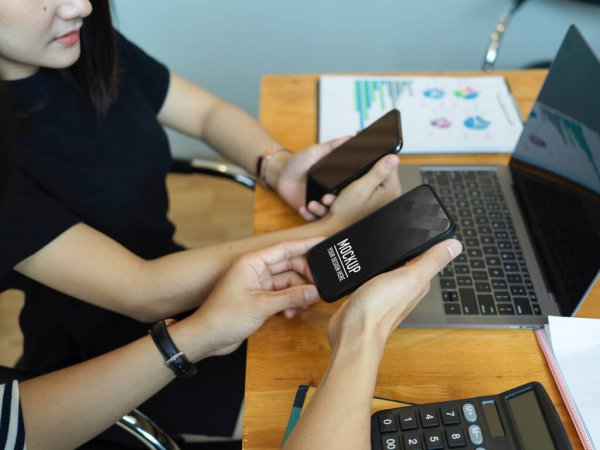Cell Phone: (307, 186, 455, 301), (307, 111, 402, 208)
